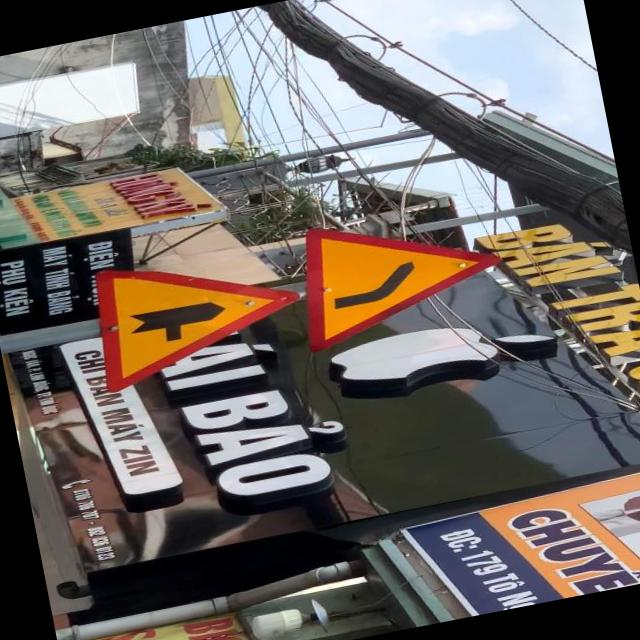W-201a: (286, 194, 514, 352)
W-207b: (84, 228, 306, 395)
